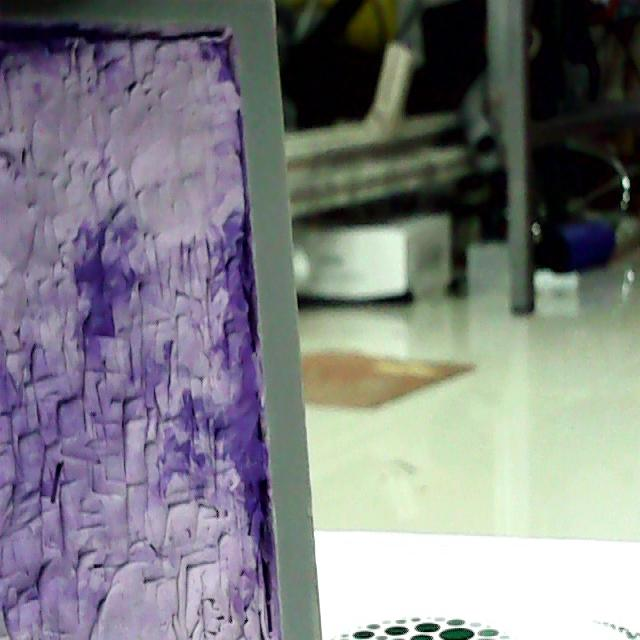block: (2, 12, 334, 633)
